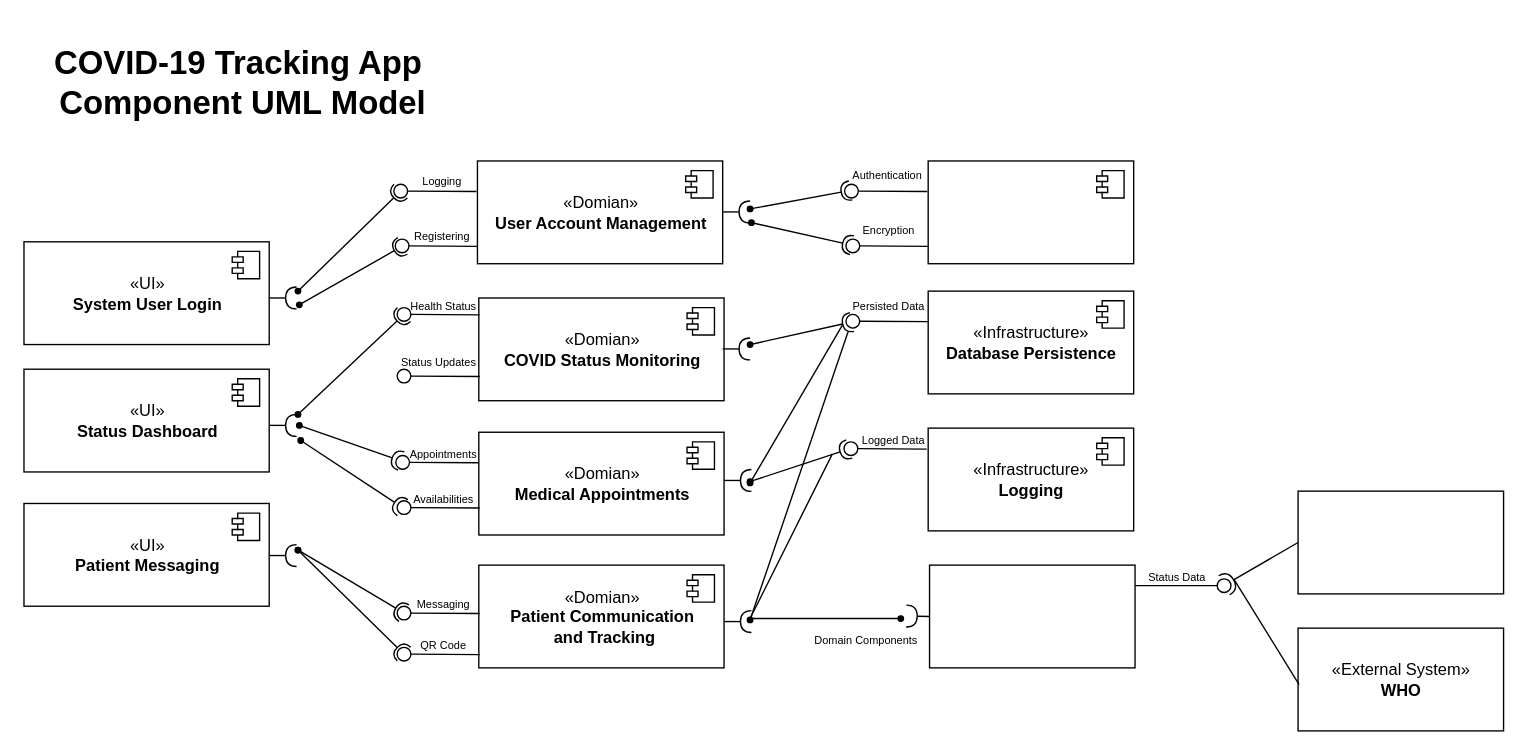
Image size: 1528x755. Some labels were removed from this diagram. The shapes that lost their labels are listed below. From the top down, each one's box as (x1, y1, x2, y2) in pixels, then its label:
(927, 160, 1134, 264): «Infrastructure» Security
(1297, 490, 1504, 594): «External System» Quebec Government
(928, 564, 1135, 668): «External API Gateway» External Services API
